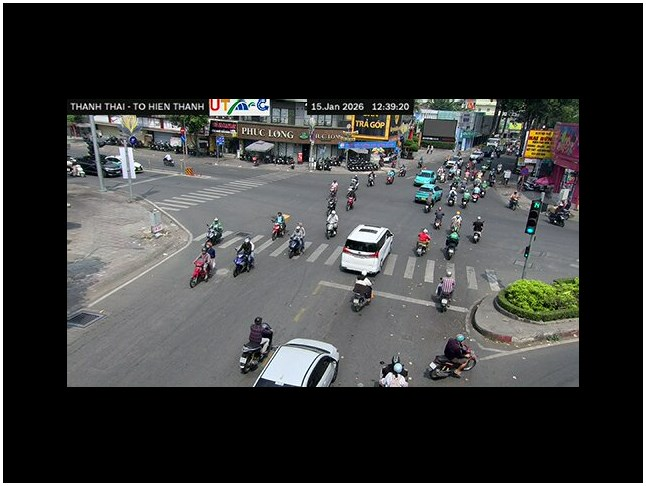car: (252, 337, 341, 387), (340, 224, 394, 276), (414, 187, 435, 205), (414, 170, 435, 186)
motorbike: (425, 351, 477, 380), (349, 279, 374, 312), (233, 246, 255, 276), (287, 228, 305, 259), (325, 207, 339, 238)
